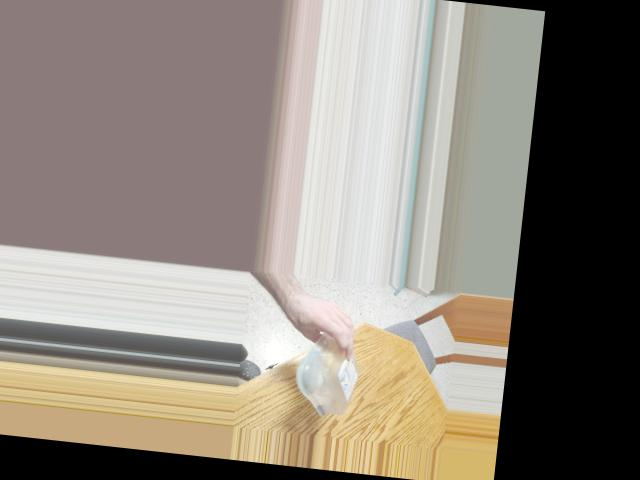cheese: (300, 318, 361, 414)
